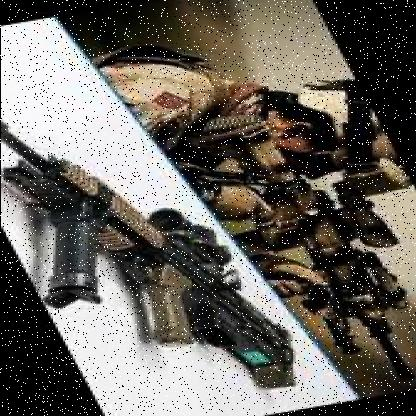rifle: (0, 26, 322, 416), (186, 104, 416, 395)
